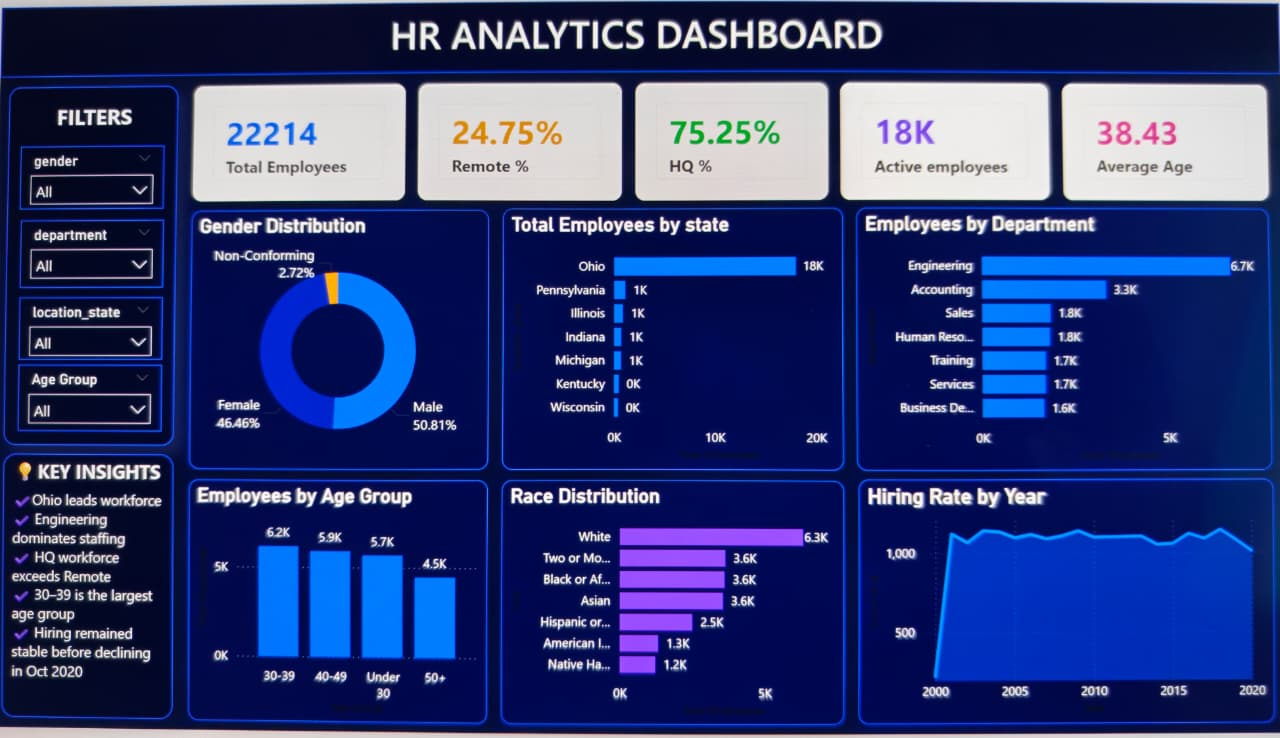

This screenshot's page, from the dashboard's own definition file:
{"tool":"powerbi","page":{"name":"Page 1","canvas":[1280,720],"ordinal":0},"visuals":[{"type":"textbox","box":[0,0,1279.7,71],"z":0},{"type":"cardVisual","title":"Total Employees","fields":{"Data":["HR_Analytics.Total Employees"]},"box":[199.2,82,214.2,117.2],"z":1000},{"type":"cardVisual","title":"Total Employees","fields":{"Data":["HR_Analytics.Active employees"]},"box":[840.6,82,207.5,117.2],"z":2000},{"type":"cardVisual","title":"Total Employees","fields":{"Data":["HR_Analytics.Average Age"]},"box":[1059.4,82,205.9,117.2],"z":3000},{"type":"donutChart","title":"Gender Distribution","fields":{"Category":["HR_Analytics.gender"],"Y":["HR_Analytics.Total Employees"]},"box":[198.2,206.6,296.5,255.8],"z":4000},{"type":"clusteredBarChart","title":"Race Distribution","fields":{"Category":["HR_Analytics.race"],"Y":["HR_Analytics.Total Employees"]},"box":[508.4,472.2,334.5,237.5],"z":5000},{"type":"clusteredBarChart","title":"Employees by Department","fields":{"Category":["HR_Analytics.department"],"Y":["HR_Analytics.Total Employees"]},"box":[855.9,205.2,409,257.2],"z":6000},{"type":"columnChart","title":"Employees by Age Group","fields":{"Category":["HR_Analytics.Age Group"],"Y":["HR_Analytics.Total Employees"]},"box":[198.2,472.2,296.5,237.5],"z":7000},{"type":"barChart","title":"Total Employees by state","fields":{"Category":["HR_Analytics.location_state"],"Y":["HR_Analytics.Total Employees"]},"box":[508,205.2,334.5,257.2],"z":8000},{"type":"textbox","box":[9.8,81.5,172.9,358.4],"z":9000},{"type":"slicer","fields":{"Values":["HR_Analytics.gender"]},"box":[23.3,141.7,146.7,63.3],"z":10000},{"type":"slicer","fields":{"Values":["HR_Analytics.department"]},"box":[23.9,215,146.2,67.5],"z":11000},{"type":"slicer","fields":{"Values":["HR_Analytics.location_state"]},"box":[23.9,292.3,146.2,61.8],"z":12000},{"type":"slicer","fields":{"Values":["HR_Analytics.Age Group"]},"box":[23.9,359.8,146.2,66.1],"z":13000},{"type":"cardVisual","title":"Total Employees","fields":{"Data":["HR_Analytics.Remote %"]},"box":[424.7,82,202.5,117.2],"z":14000},{"type":"cardVisual","title":"Total Employees","fields":{"Data":["HR_Analytics.HQ %"]},"box":[638.5,82,190.8,117.2],"z":15000},{"type":"textbox","title":"💡KEY INSIGHTS","box":[9.8,448.3,172.9,261.4],"z":17000},{"type":"textbox","box":[22.5,91.3,150.4,49.2],"z":18000},{"type":"areaChart","title":"Hiring Rate by Year","fields":{"Category":["HR_Analytics.hire_date.Variation.Date Hierarchy.Year","HR_Analytics.hire_date.Variation.Date Hierarchy.Quarter","HR_Analytics.hire_date.Variation.Date Hierarchy.Month","HR_Analytics.hire_date.Variation.Date Hierarchy.Day"],"Y":["CountNonNull(HR_Analytics.id)"]},"box":[856.7,471.7,408.3,238.3],"z":18001}]}

Visuals, with their boxes in screenshot pixels (x1, y1, x2, y2), scaled from the page's 1280x720 canvas onto the 1280x738 screenshot:
textbox: 0:0:1279:73
"Total Employees" cardVisual: 199:84:413:204
"Total Employees" cardVisual: 841:84:1048:204
"Total Employees" cardVisual: 1059:84:1265:204
"Gender Distribution" donutChart: 198:212:495:474
"Race Distribution" clusteredBarChart: 508:484:843:727
"Employees by Department" clusteredBarChart: 856:210:1265:474
"Employees by Age Group" columnChart: 198:484:495:727
"Total Employees by state" barChart: 508:210:842:474
textbox: 10:84:183:451
slicer - HR_Analytics.gender: 23:145:170:210
slicer - HR_Analytics.department: 24:220:170:290
slicer - HR_Analytics.location_state: 24:300:170:363
slicer - HR_Analytics.Age Group: 24:369:170:437
"Total Employees" cardVisual: 425:84:627:204
"Total Employees" cardVisual: 638:84:829:204
"💡KEY INSIGHTS" textbox: 10:460:183:727
textbox: 22:94:173:144
"Hiring Rate by Year" areaChart: 857:483:1265:728
